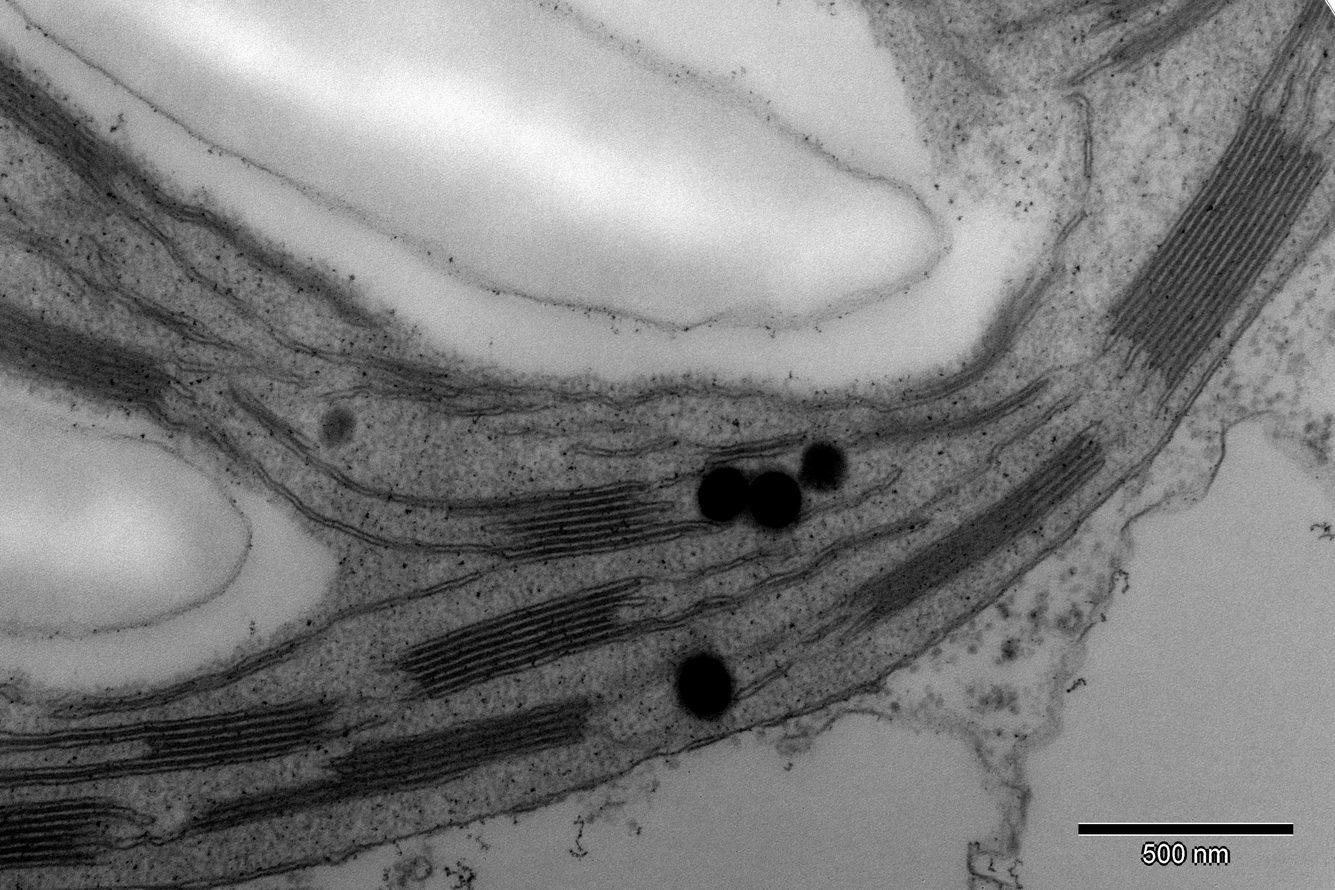granum: (1101, 104, 1335, 392), (182, 696, 596, 841), (848, 427, 1109, 624), (392, 575, 652, 702), (0, 292, 173, 414), (477, 477, 684, 575), (0, 55, 130, 196), (137, 690, 340, 776), (1102, 0, 1239, 78), (0, 793, 132, 872), (357, 346, 467, 407), (1055, 0, 1180, 30), (1284, 0, 1335, 54)
